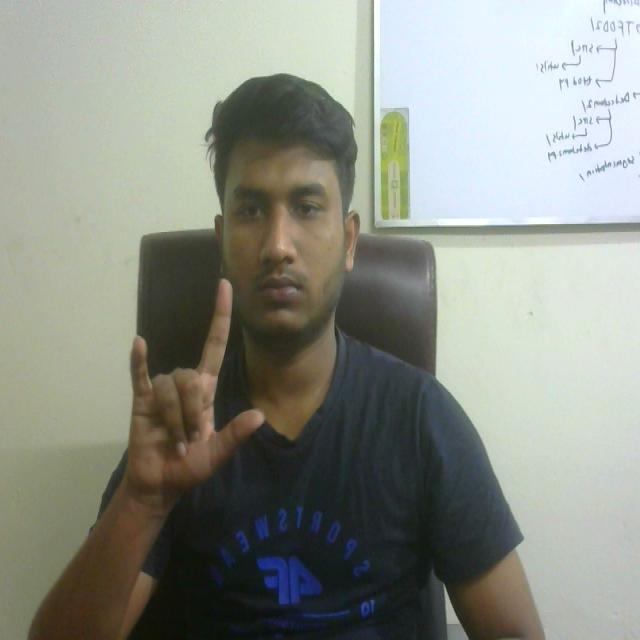B: (107, 260, 262, 505)
